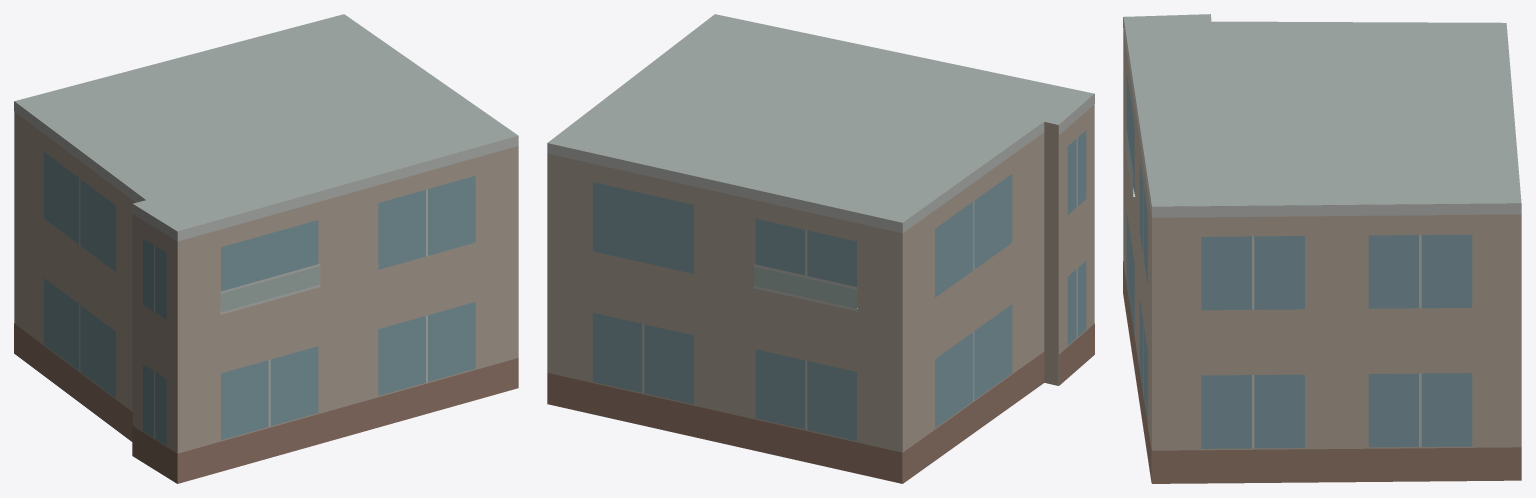
File: survey-upis-32902557.glb
3 renders of one model, left to right at view 1: azimuth 30°, elevation 25°; view 2: azimuth 150°, elevation 25°; view 3: azimuth 270°, elevation 25°, orthographic. The views are drawn at different scales.
Visible parts, largest first — view 1: survey-upis-32902557.tmp; view 2: survey-upis-32902557.tmp; view 3: survey-upis-32902557.tmp.
Boxes of the visible parts, x1,y1,x2,y2 form: survey-upis-32902557.tmp: [14, 14, 518, 483]; survey-upis-32902557.tmp: [547, 14, 1094, 483]; survey-upis-32902557.tmp: [1123, 14, 1521, 483].
Bounding box in the file's own units: 9.1 × 6.1 × 7.95.
